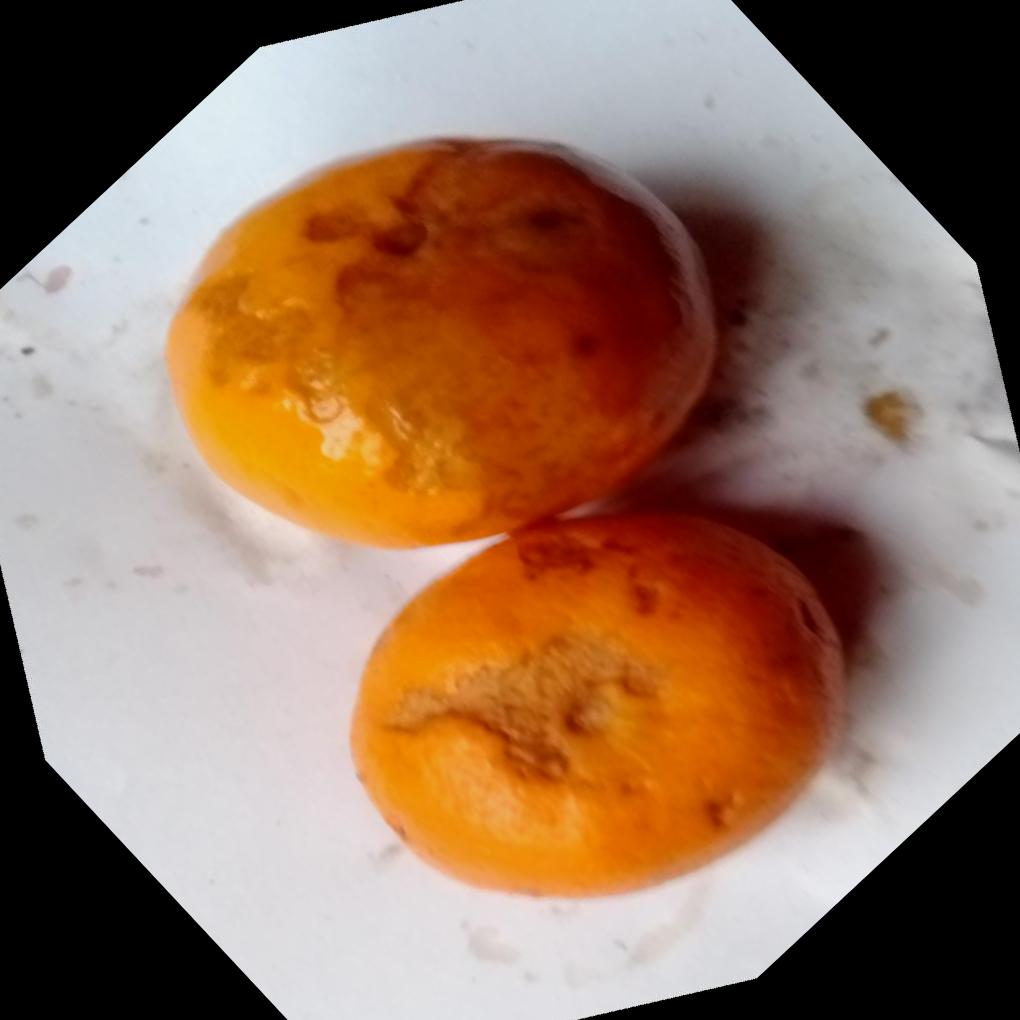FreshOrange: (163, 135, 853, 902)
